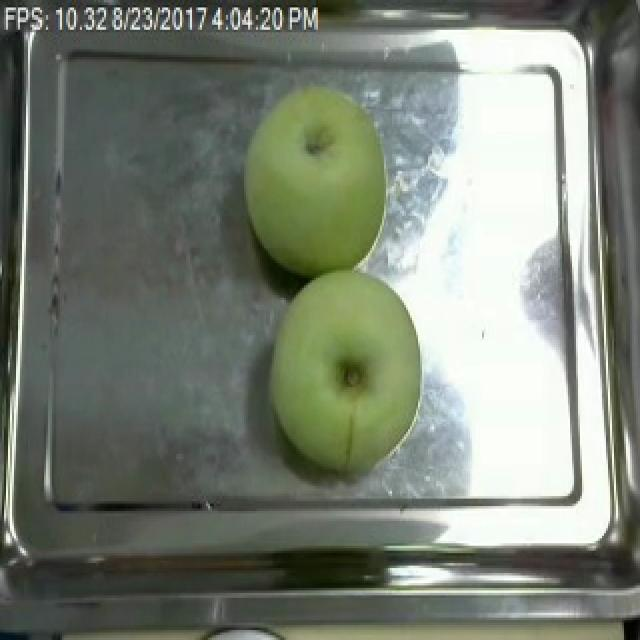50-_ripeness: (255, 266, 440, 476), (238, 89, 397, 283)
